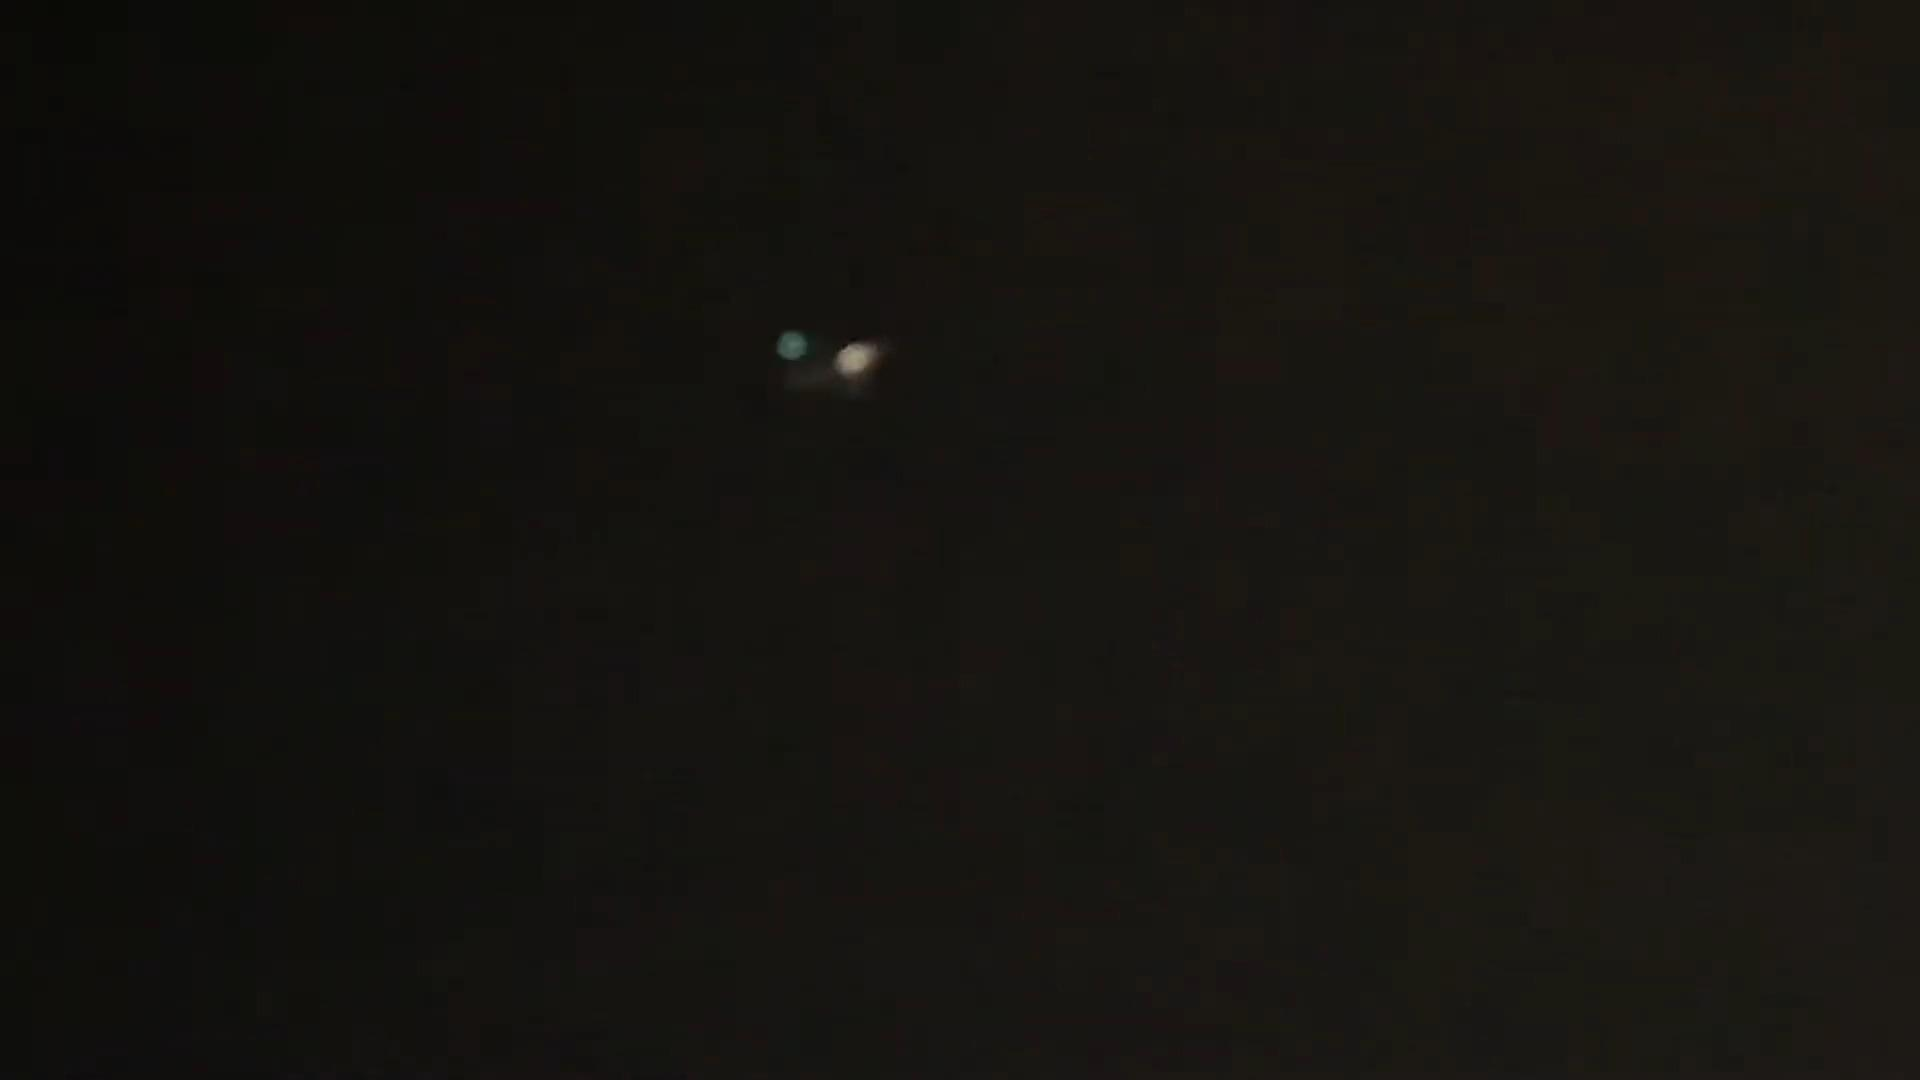Plane: (715, 302, 967, 429)
